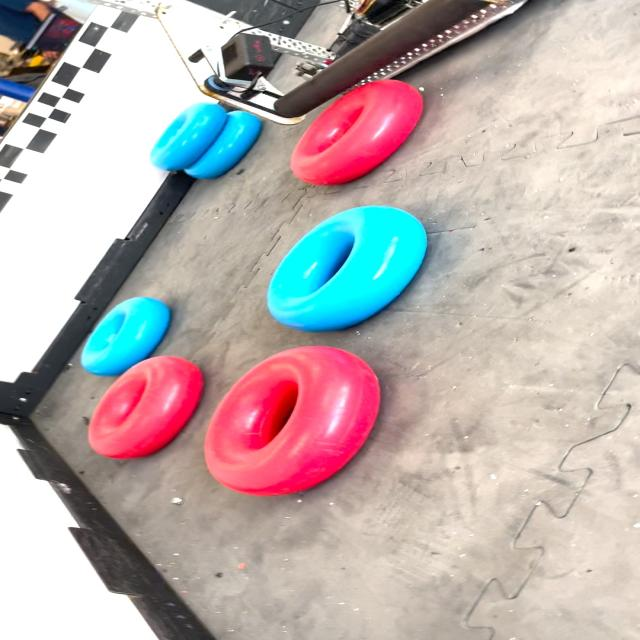Blue-Ring: (267, 206, 427, 331), (82, 298, 171, 376), (184, 111, 262, 179), (151, 102, 227, 171)
Red-Ring: (204, 346, 380, 496), (291, 80, 422, 185), (89, 356, 202, 459)
